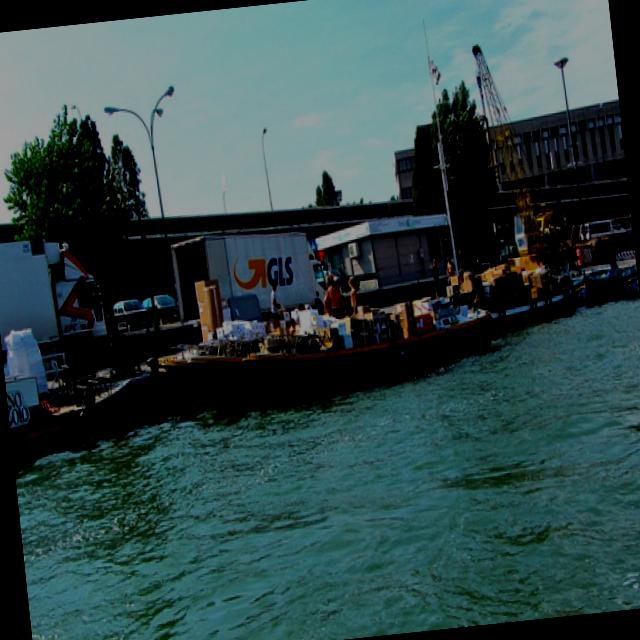Vehicle: (170, 222, 335, 333), (0, 229, 114, 388), (577, 224, 635, 262), (142, 293, 178, 326), (112, 298, 150, 329)
